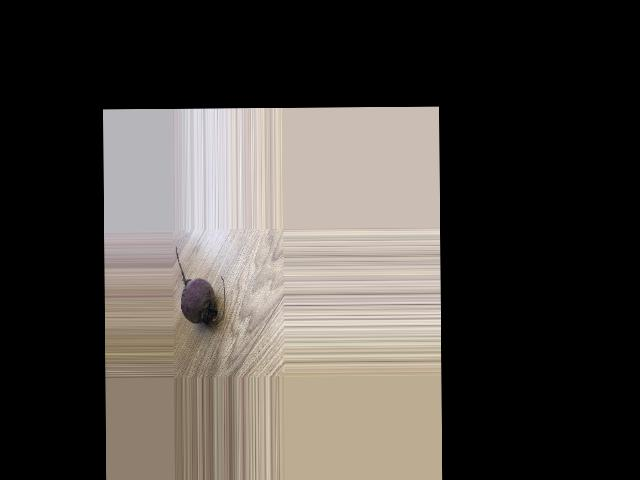beet: (175, 246, 225, 326)
